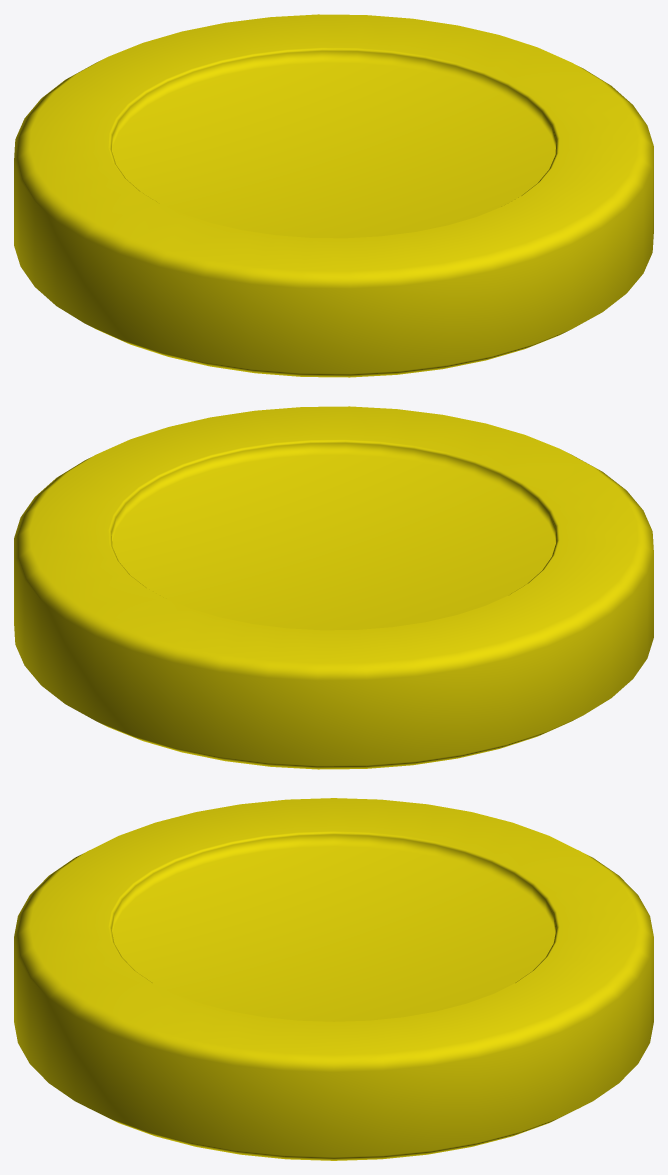
The model's file is Coin.fbx.
3 views of the same model, one above another, from view 1: azimuth 30°, elevation 25°; view 2: azimuth 150°, elevation 25°; view 3: azimuth 270°, elevation 25° (orthographic).
Parts seen in each view (by area): view 1: pCylinder7; view 2: pCylinder7; view 3: pCylinder7.
Boxes of the visible parts, x1=… form: pCylinder7: x1=14, y1=14, x2=653, y2=377; pCylinder7: x1=14, y1=406, x2=653, y2=769; pCylinder7: x1=14, y1=798, x2=653, y2=1160.
Bounding box in the file's own units: 0.6095 × 0.1114 × 0.6095.
